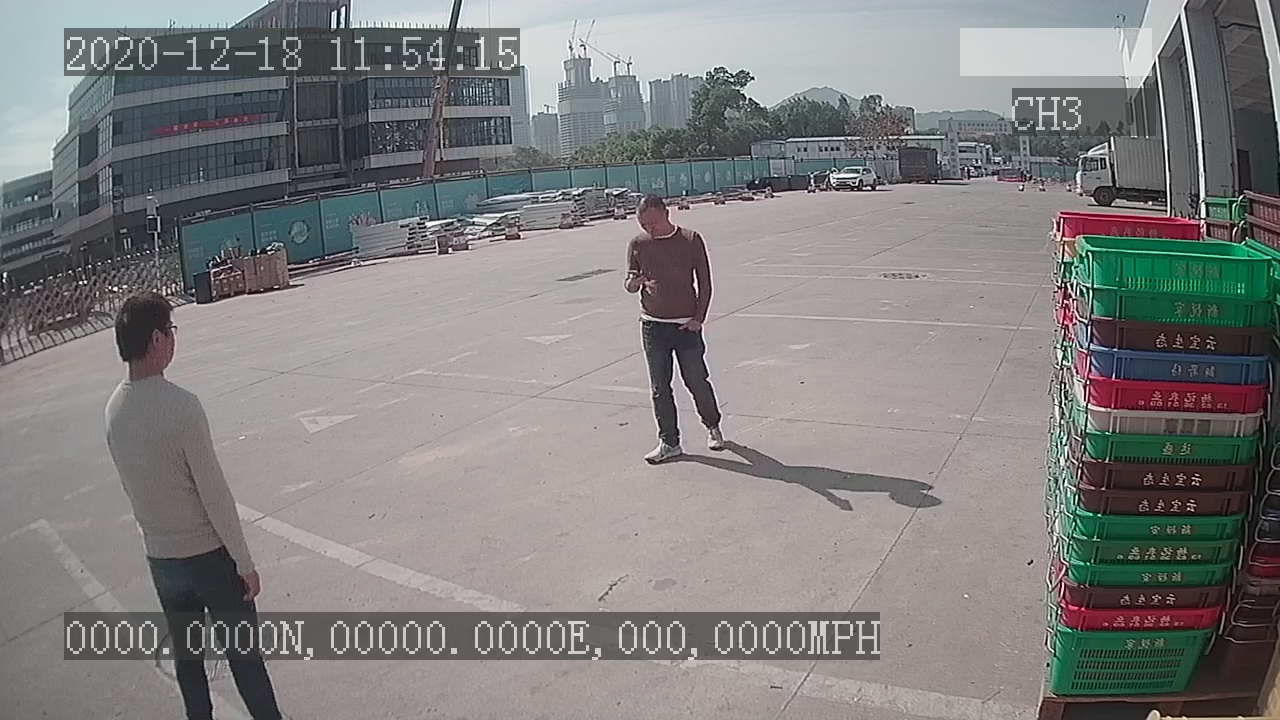person: (608, 190, 733, 472)
